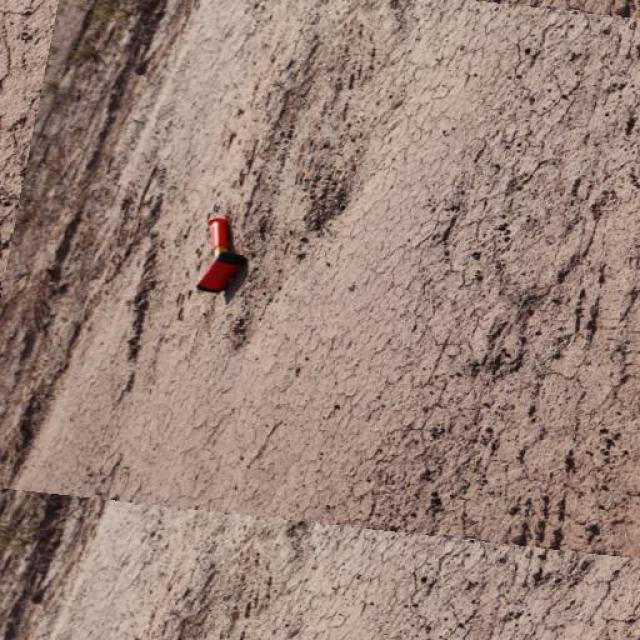mallet: (194, 214, 246, 292)
